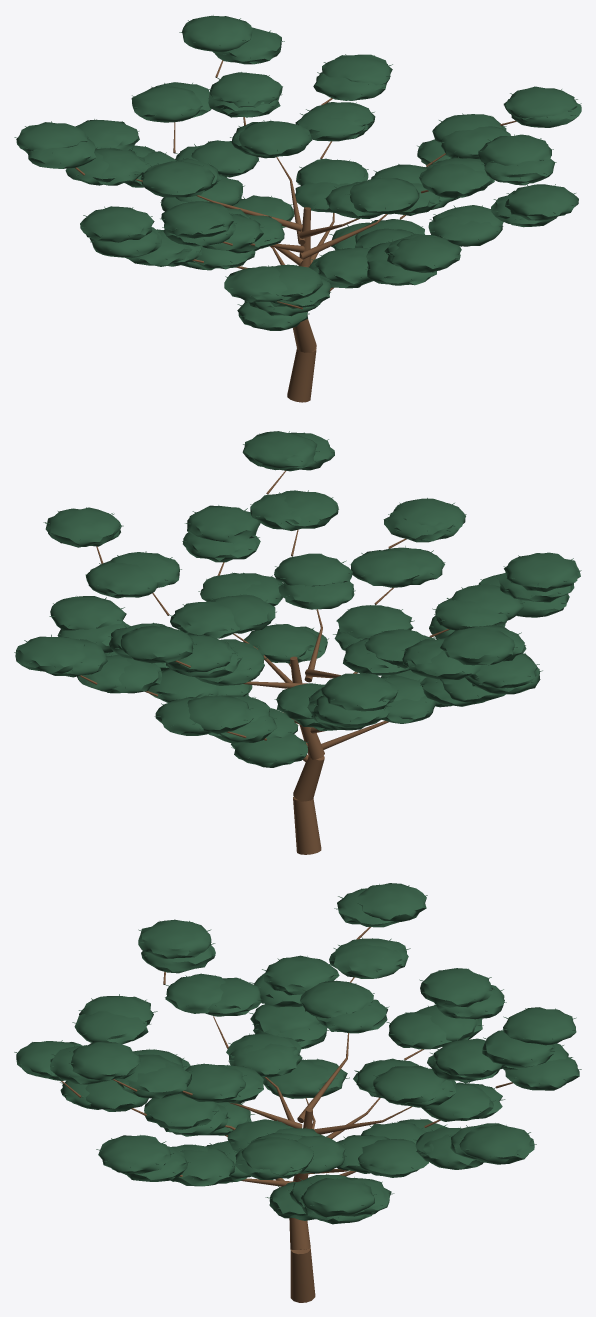
The model's file is garden_pine.glb.
3 renders of one model, top to bottom at view 1: azimuth 30°, elevation 25°; view 2: azimuth 150°, elevation 25°; view 3: azimuth 270°, elevation 25°, orthographic. The views are drawn at different scales.
Visible parts, largest first — view 1: Detail.garden_pine.Leaf, Detail.garden_pine.Wood; view 2: Detail.garden_pine.Leaf, Detail.garden_pine.Wood; view 3: Detail.garden_pine.Leaf, Detail.garden_pine.Wood.
Boxes of the visible parts, bbox=[...] form: Detail.garden_pine.Leaf: bbox=[14, 15, 581, 330]; Detail.garden_pine.Wood: bbox=[75, 60, 516, 402]; Detail.garden_pine.Leaf: bbox=[14, 431, 581, 767]; Detail.garden_pine.Wood: bbox=[79, 470, 449, 854]; Detail.garden_pine.Leaf: bbox=[14, 883, 581, 1224]; Detail.garden_pine.Wood: bbox=[61, 927, 512, 1302].
Size of the model in its own units: 12.79 by 7.24 by 12.05.
